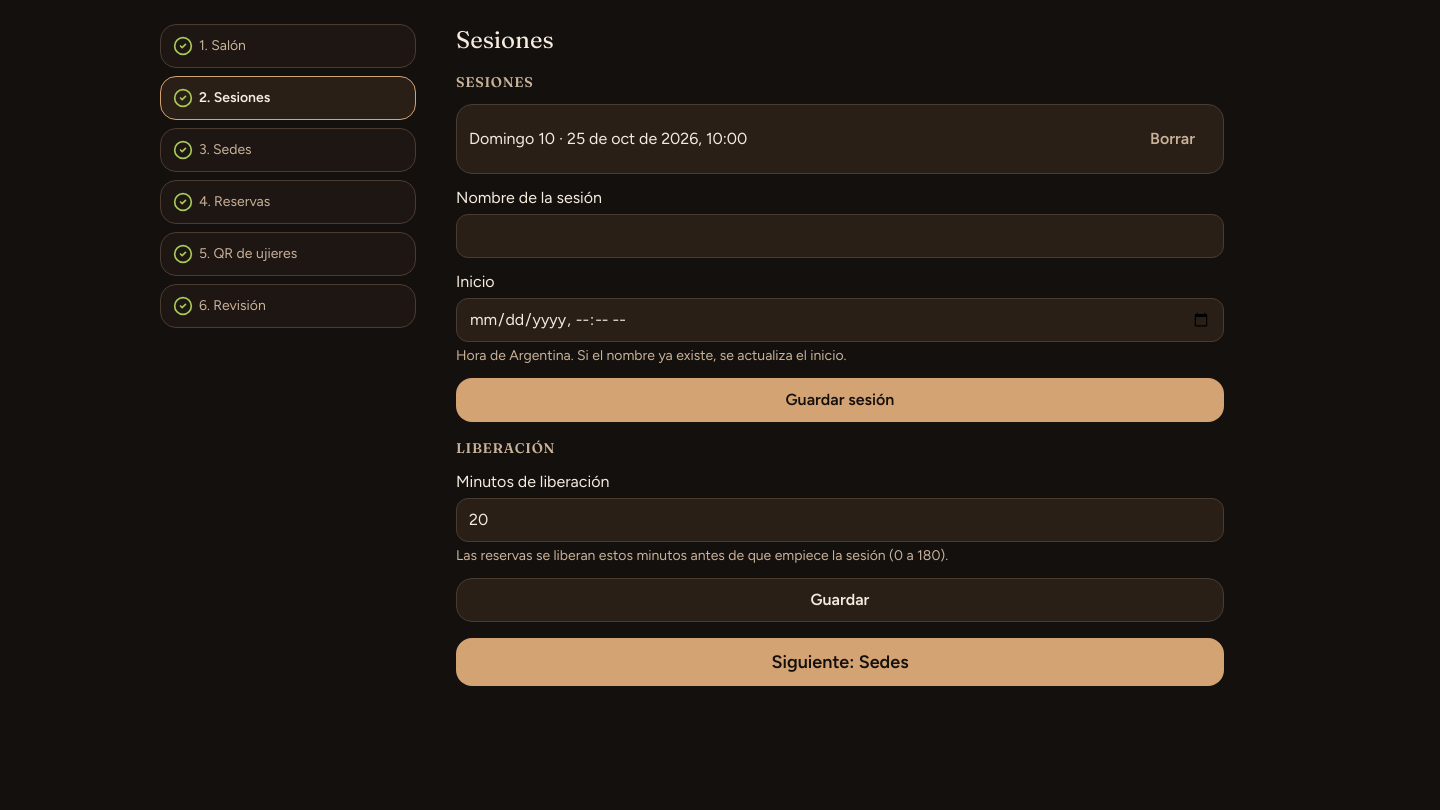
Scenario: SesionesPaso › tras guardar o borrar una sesión se recarga el estado de preparación; si el servidor rechaza, no
In the field labelled "Nombre de la sesión": (840, 236) [456, 214, 1224, 258], type "Domingo 18"
In the field labelled "Inicio": (840, 320) [456, 298, 1224, 342], type "2026-10-25T18:30"
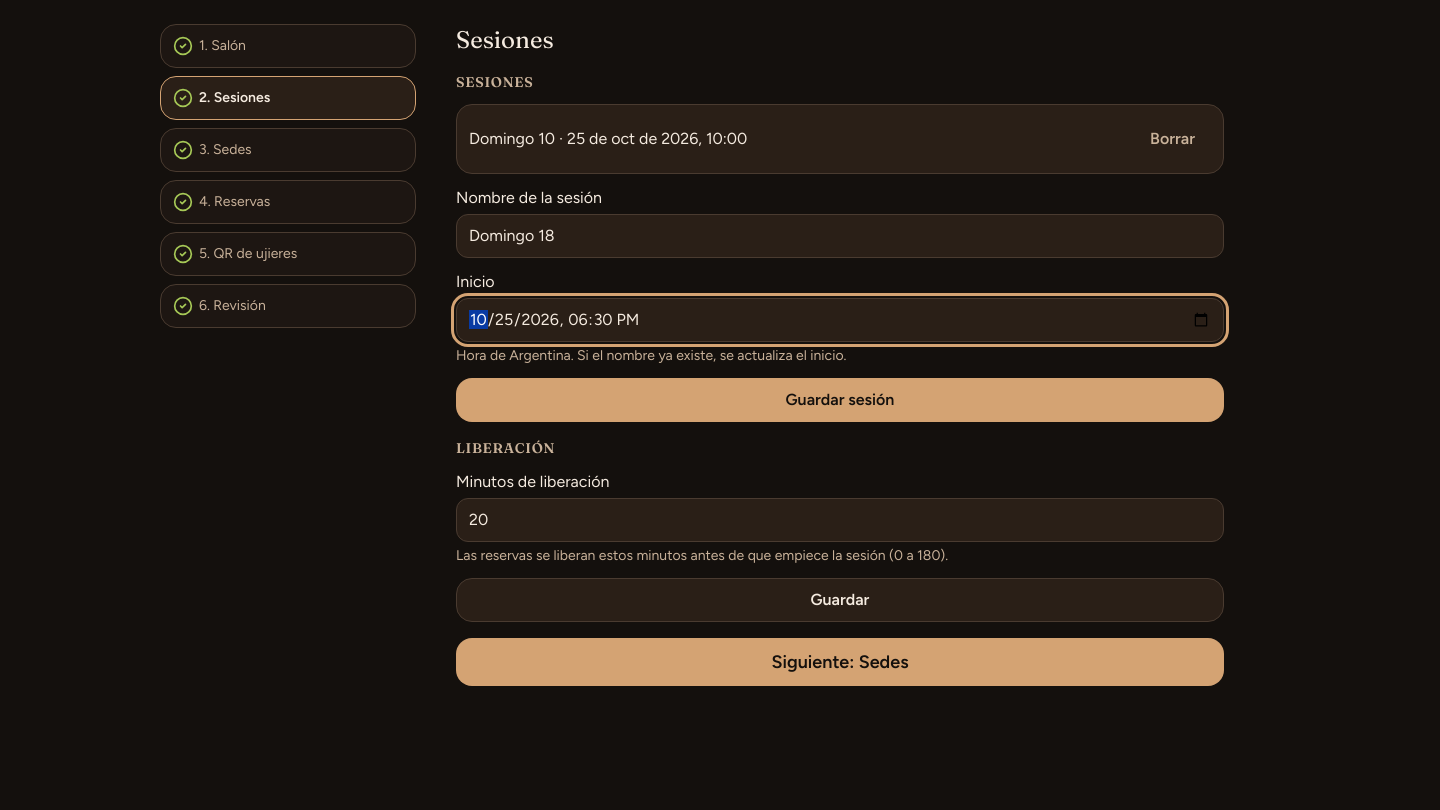
Click the button "Guardar sesión": (840, 400) [456, 378, 1224, 422]
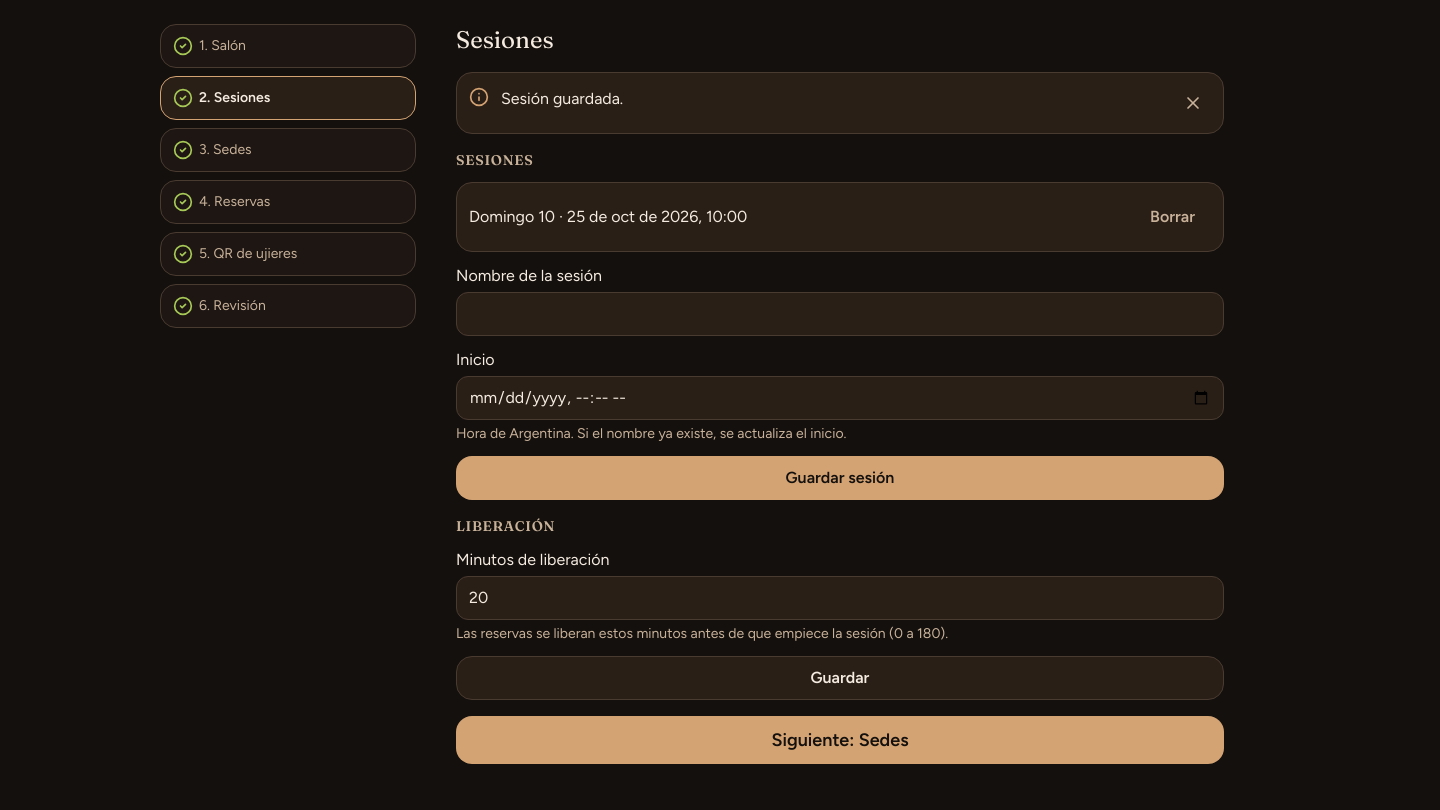
Click the button with aria-label "Borrar Domingo 10": (1173, 217) [1134, 195, 1211, 239]
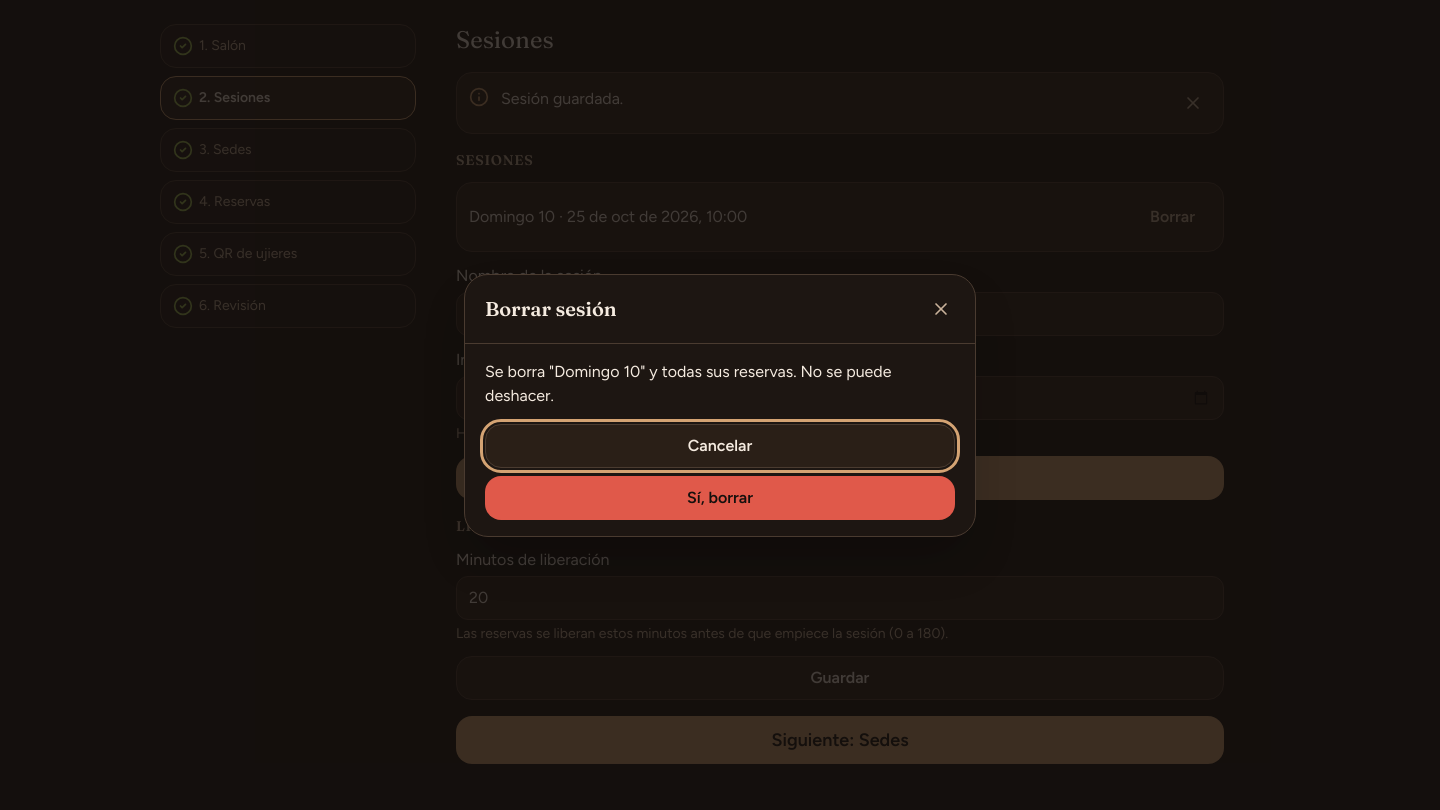
Click the button "Sí, borrar": (720, 498) [485, 476, 955, 520]
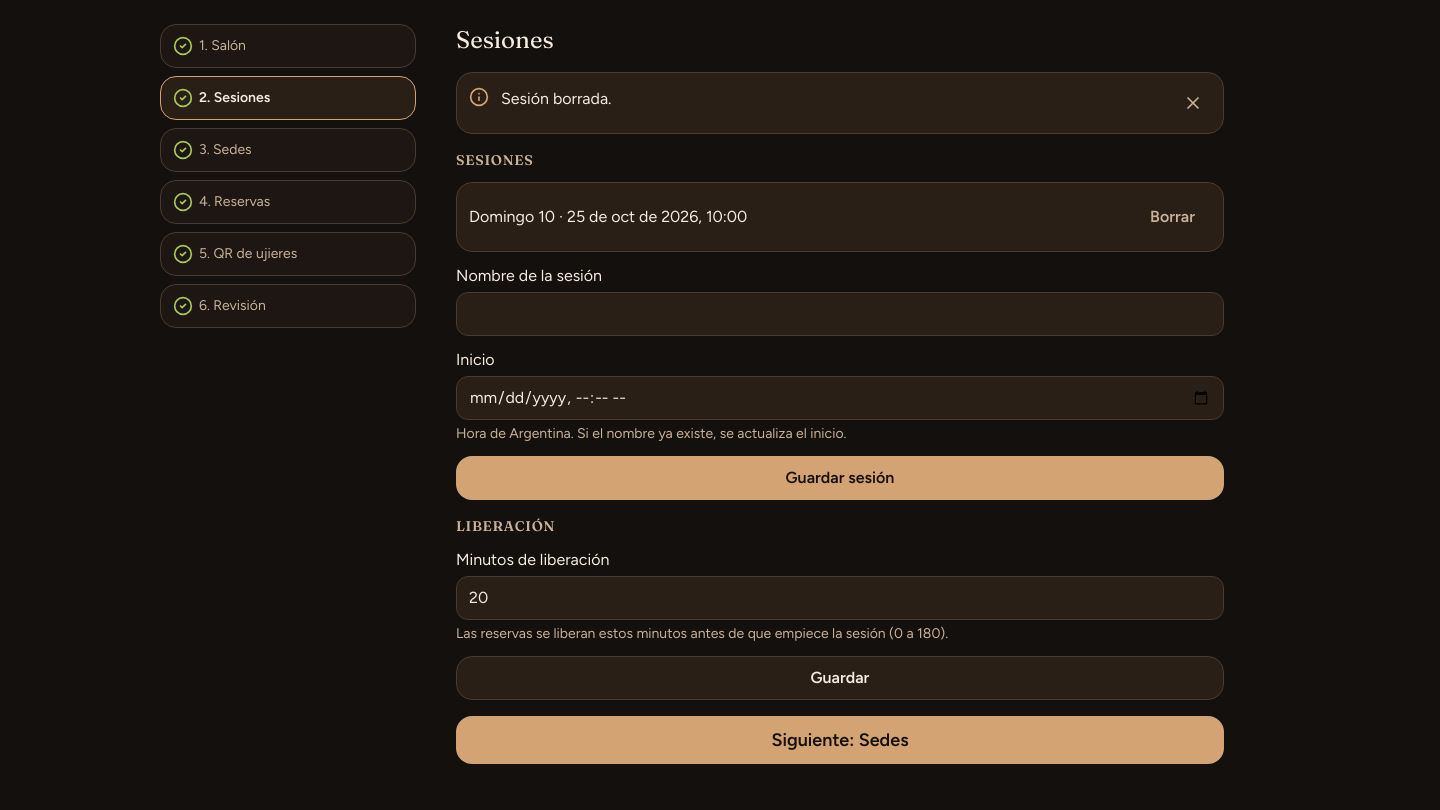
Click the button with aria-label "Borrar Domingo 10": (1173, 217) [1134, 195, 1211, 239]
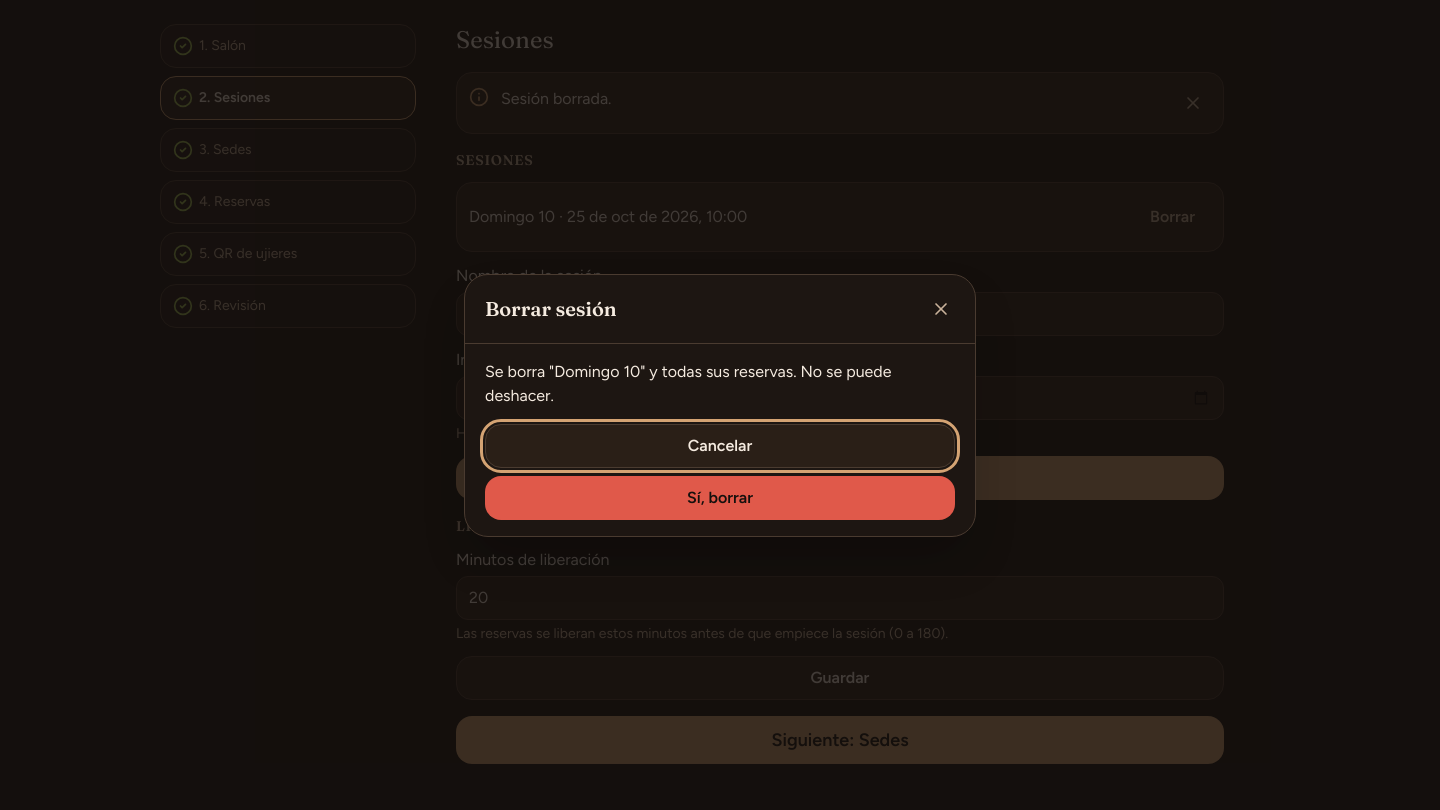
Click the button "Sí, borrar": (720, 498) [485, 476, 955, 520]
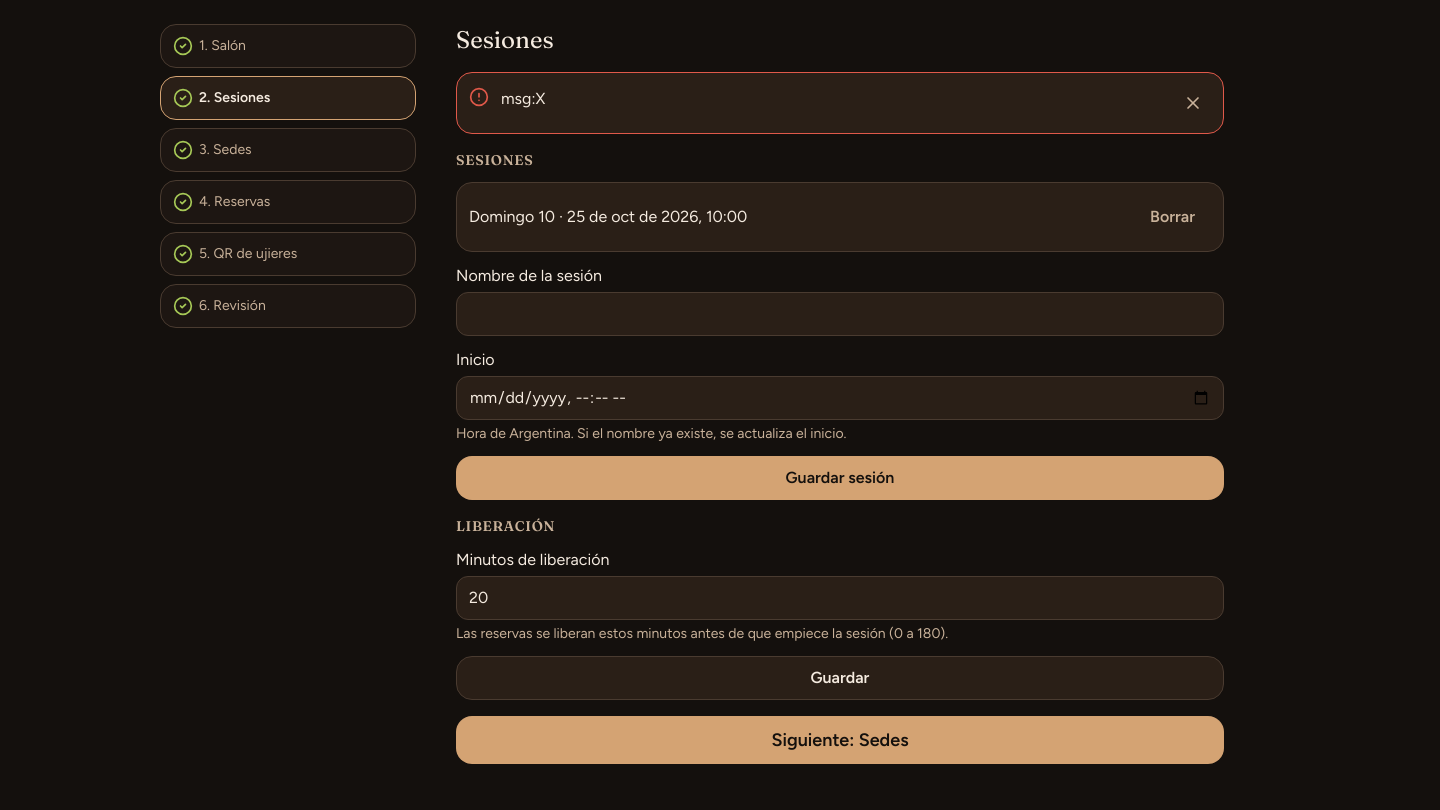
expect the text "msg:X" is shown: met, box [501, 89, 545, 108]
